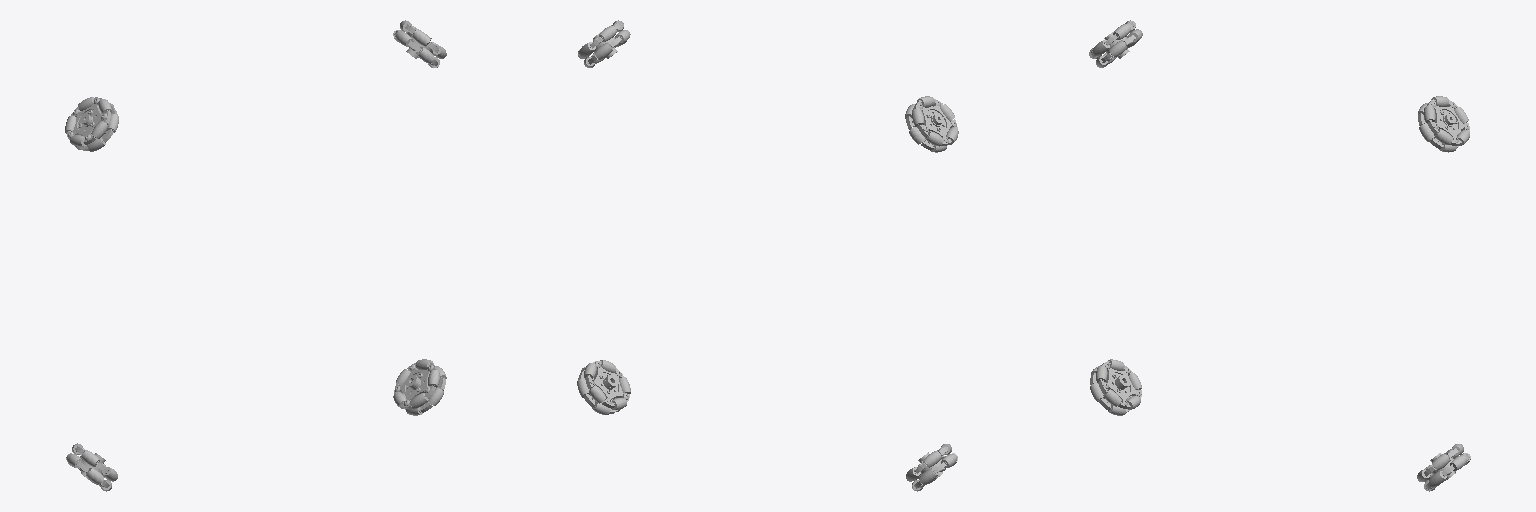
The robot description file, URDF, robot "Base_con_ruedas_para_ROS_URDF.SLDASM":
<?xml version="1.0" encoding="utf-8"?>
<!-- This URDF was automatically created by SolidWorks to URDF Exporter! Originally created by Stephen Brawner ([email redacted]) 
     Commit Version: 1.6.0-4-g7f85cfe  Build Version: 1.6.7995.38578
     For more information, please see http://wiki.ros.org/sw_urdf_exporter -->
<robot
  name="Base_con_ruedas_para_ROS_URDF.SLDASM">
  <link
    name="base_link">
    <inertial>
      <origin
        xyz="-0.11878744502835 -0.00950436788509916 0.0821383092403481"
        rpy="0 0 0" />
      <mass
        value="2.83771948238293" />
      <inertia
        ixx="0.0430332674788693"
        ixy="1.40958244923047E-10"
        ixz="2.13042531567236E-07"
        iyy="0.0430332674788692"
        iyz="2.13042531609337E-07"
        izz="0.0857213097167914" />
    </inertial>
    <visual>
      <origin
        xyz="0 0 0"
        rpy="0 0 0" />
      <geometry>
        <mesh
          filename="package://Base_con_ruedas_para_ROS_URDF.SLDASM/meshes/base_link.STL" />
      </geometry>
      <material
        name="">
        <color
          rgba="0.792156862745098 0.819607843137255 0.933333333333333 1" />
      </material>
    </visual>
    <collision>
      <origin
        xyz="0 0 0"
        rpy="0 0 0" />
      <geometry>
        <mesh
          filename="package://Base_con_ruedas_para_ROS_URDF.SLDASM/meshes/base_link.STL" />
      </geometry>
    </collision>
  </link>
  <link
    name="w1">
    <inertial>
      <origin
        xyz="-1.7538E-06 1.7536E-06 0.0010792"
        rpy="0 0 0" />
      <mass
        value="0.037695" />
      <inertia
        ixx="3.0971E-06"
        ixy="-1.1843E-11"
        ixz="-6.2069E-10"
        iyy="3.0971E-06"
        iyz="6.2066E-10"
        izz="5.3487E-06" />
    </inertial>
    <visual>
      <origin
        xyz="0 0 0"
        rpy="0 0 0" />
      <geometry>
        <mesh
          filename="package://Base_con_ruedas_para_ROS_URDF.SLDASM/meshes/w1.STL" />
      </geometry>
      <material
        name="">
        <color
          rgba="0.75294 0.75294 0.75294 1" />
      </material>
    </visual>
    <collision>
      <origin
        xyz="0 0 0"
        rpy="0 0 0" />
      <geometry>
        <mesh
          filename="package://Base_con_ruedas_para_ROS_URDF.SLDASM/meshes/w1.STL" />
      </geometry>
    </collision>
  </link>
  <joint
    name="joint_wheel1"
    type="continuous">
    <origin
      xyz="0.083096 -0.071358 -0.2114"
      rpy="2.5572 -0.559 0.89496" />
    <parent
      link="base_link" />
    <child
      link="w1" />
    <axis
      xyz="0 0 1" />
  </joint>
  <link
    name="w2">
    <inertial>
      <origin
        xyz="-1.75375275950074E-06 1.75360376633571E-06 0.0571792446888183"
        rpy="0 0 0" />
      <mass
        value="0.0376949548905805" />
      <inertia
        ixx="3.09710701266864E-06"
        ixy="4.90406058546246E-11"
        ixz="-6.20695592251457E-10"
        iyy="3.09717632566126E-06"
        iyz="6.20655769719843E-10"
        izz="5.3487591588829E-06" />
    </inertial>
    <visual>
      <origin
        xyz="0 0 0"
        rpy="0 0 0" />
      <geometry>
        <mesh
          filename="package://Base_con_ruedas_para_ROS_URDF.SLDASM/meshes/w2.STL" />
      </geometry>
      <material
        name="">
        <color
          rgba="0.752941176470588 0.752941176470588 0.752941176470588 1" />
      </material>
    </visual>
    <collision>
      <origin
        xyz="0 0 0"
        rpy="0 0 0" />
      <geometry>
        <mesh
          filename="package://Base_con_ruedas_para_ROS_URDF.SLDASM/meshes/w2.STL" />
      </geometry>
    </collision>
  </link>
  <joint
    name="joint_wheel2"
    type="continuous">
    <origin
      xyz="0.043427 -0.07138 0.15271"
      rpy="0.42925 0.67987 0.6293" />
    <parent
      link="base_link" />
    <child
      link="w2" />
    <axis
      xyz="0 0 1" />
  </joint>
  <link
    name="w3">
    <inertial>
      <origin
        xyz="-1.75375554717361E-06 1.75360628151822E-06 0.0010791779906677"
        rpy="0 0 0" />
      <mass
        value="0.0376949548647" />
      <inertia
        ixx="3.09718950231943E-06"
        ixy="-5.10087033948385E-11"
        ixz="-6.20695595482421E-10"
        iyy="3.09717846728405E-06"
        iyz="6.20659344083231E-10"
        izz="5.34884380066944E-06" />
    </inertial>
    <visual>
      <origin
        xyz="0 0 0"
        rpy="0 0 0" />
      <geometry>
        <mesh
          filename="package://Base_con_ruedas_para_ROS_URDF.SLDASM/meshes/w3.STL" />
      </geometry>
      <material
        name="">
        <color
          rgba="0.752941176470588 0.752941176470588 0.752941176470588 1" />
      </material>
    </visual>
    <collision>
      <origin
        xyz="0 0 0"
        rpy="0 0 0" />
      <geometry>
        <mesh
          filename="package://Base_con_ruedas_para_ROS_URDF.SLDASM/meshes/w3.STL" />
      </geometry>
    </collision>
  </link>
  <joint
    name="joint_wheel3"
    type="continuous">
    <origin
      xyz="-0.32068 -0.071358 0.19238"
      rpy="0 -0.7854 0" />
    <parent
      link="base_link" />
    <child
      link="w3" />
    <axis
      xyz="0 0 1" />
  </joint>
  <link
    name="w4">
    <inertial>
      <origin
        xyz="-1.75375391844868E-06 1.75360373740052E-06 0.0458838619195954"
        rpy="0 0 0" />
      <mass
        value="0.0376949548786197" />
      <inertia
        ixx="3.09721164599084E-06"
        ixy="-1.48517341651876E-11"
        ixz="-6.20693853218012E-10"
        iyy="3.0972556715952E-06"
        iyz="6.20658421022023E-10"
        izz="5.34894314268096E-06" />
    </inertial>
    <visual>
      <origin
        xyz="0 0 0"
        rpy="0 0 0" />
      <geometry>
        <mesh
          filename="package://Base_con_ruedas_para_ROS_URDF.SLDASM/meshes/w4.STL" />
      </geometry>
      <material
        name="">
        <color
          rgba="0.752941176470588 0.752941176470588 0.752941176470588 1" />
      </material>
    </visual>
    <collision>
      <origin
        xyz="0 0 0"
        rpy="0 0 0" />
      <geometry>
        <mesh
          filename="package://Base_con_ruedas_para_ROS_URDF.SLDASM/meshes/w4.STL" />
      </geometry>
    </collision>
  </link>
  <joint
    name="joint_wheel3"
    type="continuous">
    <origin
      xyz="-0.289 -0.071358 -0.17972"
      rpy="-2.3563 0.013593 1.5572" />
    <parent
      link="base_link" />
    <child
      link="w4" />
    <axis
      xyz="0 0 1" />
  </joint>
</robot>

--- What the picture shows (computed from the rendered views, not written in the file) ---
Views: 3 orthographic renders of the robot side by side, from view 1: azimuth 30°, elevation 25°; view 2: azimuth 150°, elevation 25°; view 3: azimuth 330°, elevation 25°.
Robot: Base_con_ruedas_para_ROS_URDF.SLDASM — 5 links, 4 joints (4 continuous); root link base_link; default pose: all joints at 0.
Links seen in each view (by area): view 1: w1, w3, w2, w4; view 2: w3, w1, w2, w4; view 3: w2, w4, w3, w1.
Link boxes in pixels (bbox=[...]): w1: bbox=[393, 359, 446, 415]; w3: bbox=[65, 97, 118, 151]; w2: bbox=[393, 20, 446, 67]; w4: bbox=[66, 443, 117, 491]; w3: bbox=[905, 96, 958, 152]; w1: bbox=[577, 360, 630, 414]; w2: bbox=[578, 20, 630, 67]; w4: bbox=[906, 444, 957, 491]; w2: bbox=[1418, 96, 1469, 152]; w4: bbox=[1090, 359, 1141, 415]; w3: bbox=[1089, 20, 1142, 67]; w1: bbox=[1417, 444, 1470, 491].
Bounding box of the posed robot: 0.4604 × 0.0608 × 0.46 m (x, y, z).
Meshes: 5 distinct files referenced, 4 mesh visuals loaded (4 binary STL); not drawn: 1 (reference not matched to a file when rendering).
